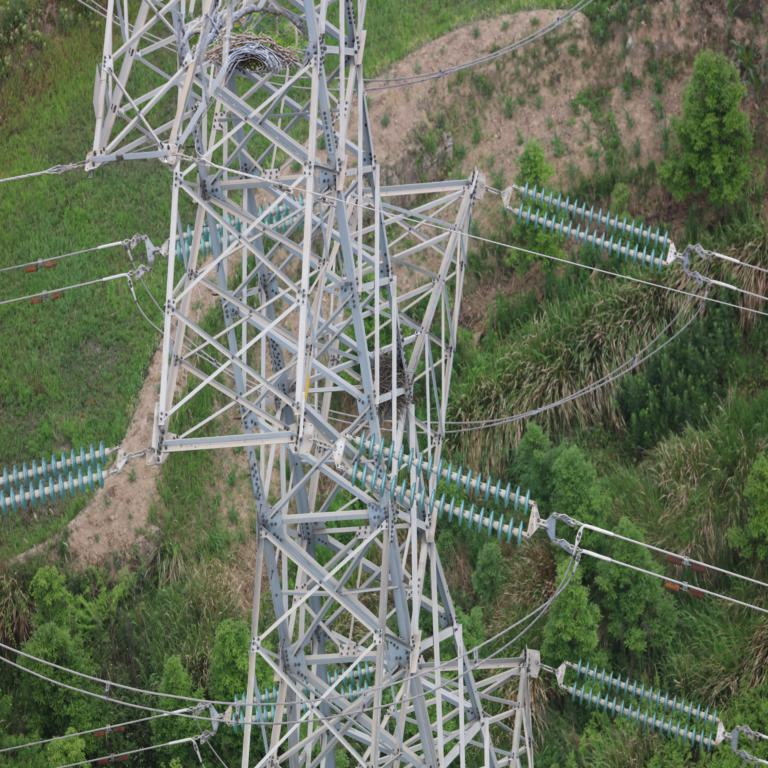nest: (204, 27, 313, 78), (336, 354, 415, 412)
